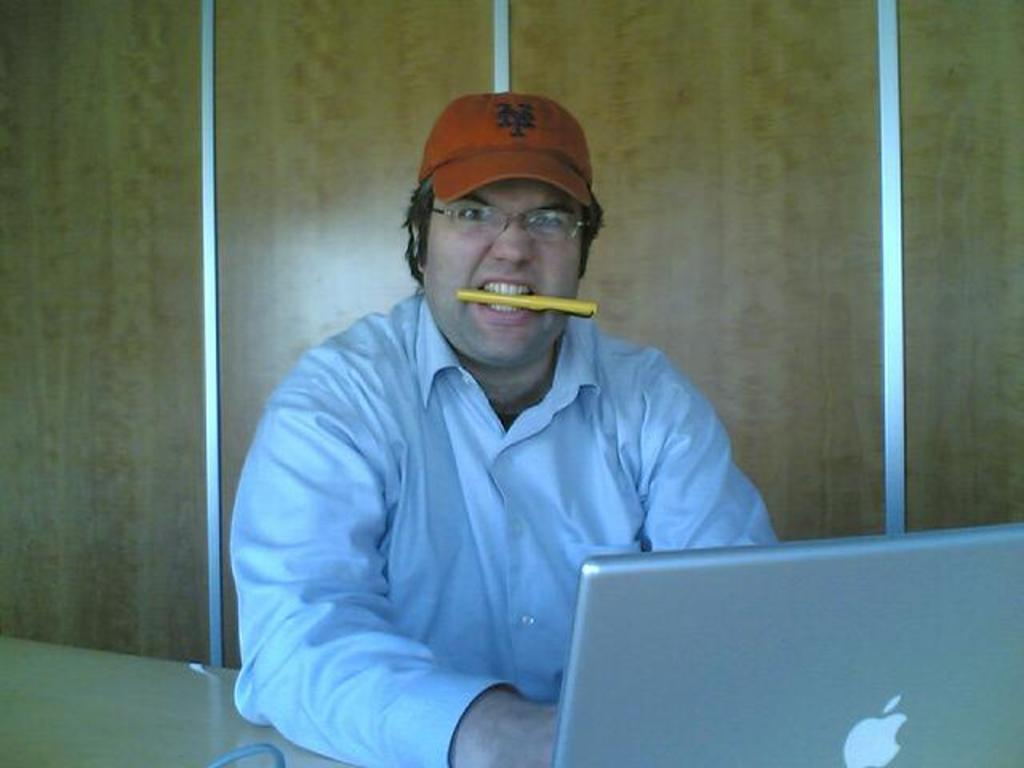Hat: (420, 97, 594, 202)
